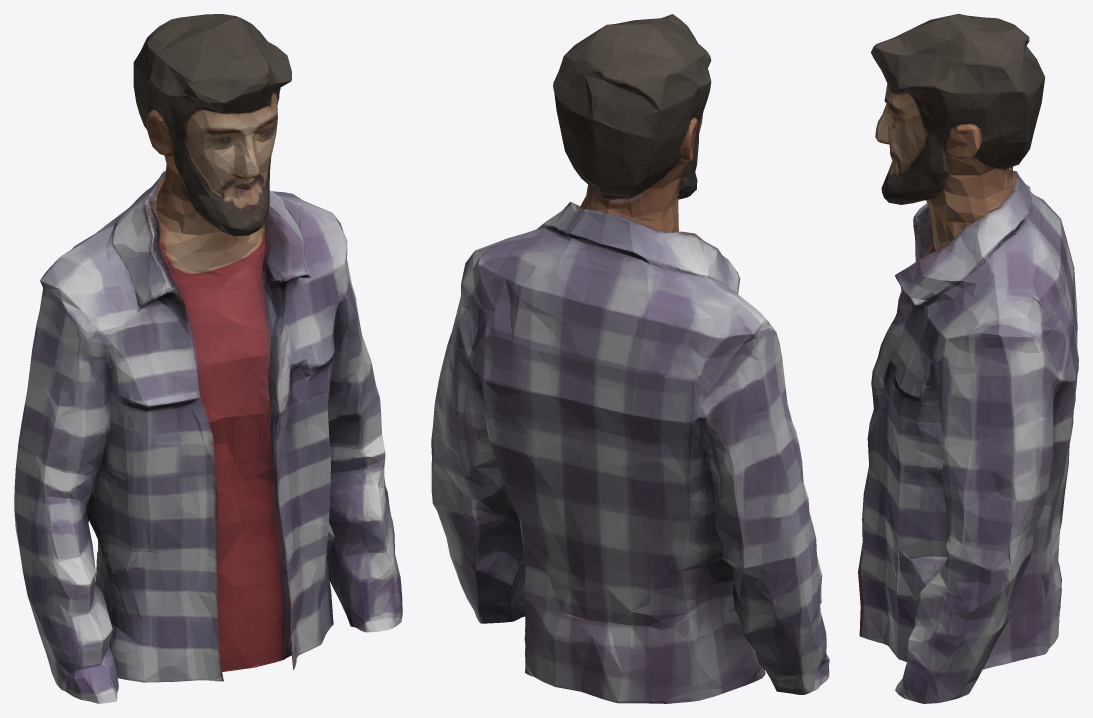
Rendered from step_1.glb.
3 renders of one model, left to right at view 1: azimuth 30°, elevation 25°; view 2: azimuth 150°, elevation 25°; view 3: azimuth 270°, elevation 25°, orthographic. The views are drawn at different scales.
Visible parts, largest first — view 1: geometry_0; view 2: geometry_0; view 3: geometry_0.
Part boxes in pixels (left/top/right/bottom): geometry_0: left=14, top=14, right=402, bottom=703; geometry_0: left=431, top=14, right=829, bottom=703; geometry_0: left=858, top=14, right=1078, bottom=703.
Bounding box in the file's own units: 0.5061 × 0.8284 × 0.2754.
1 material, 1 textured.
